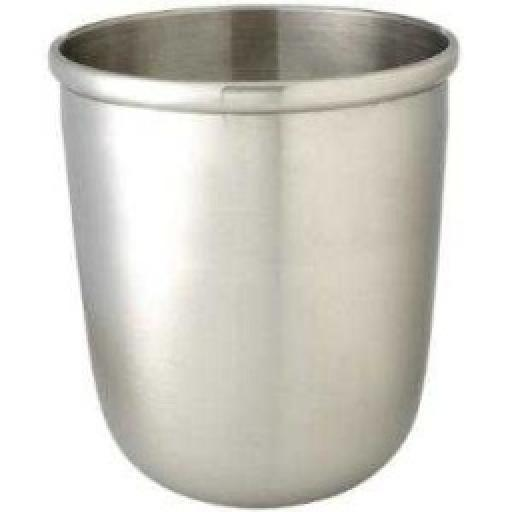trash-can: (37, 0, 472, 512)
